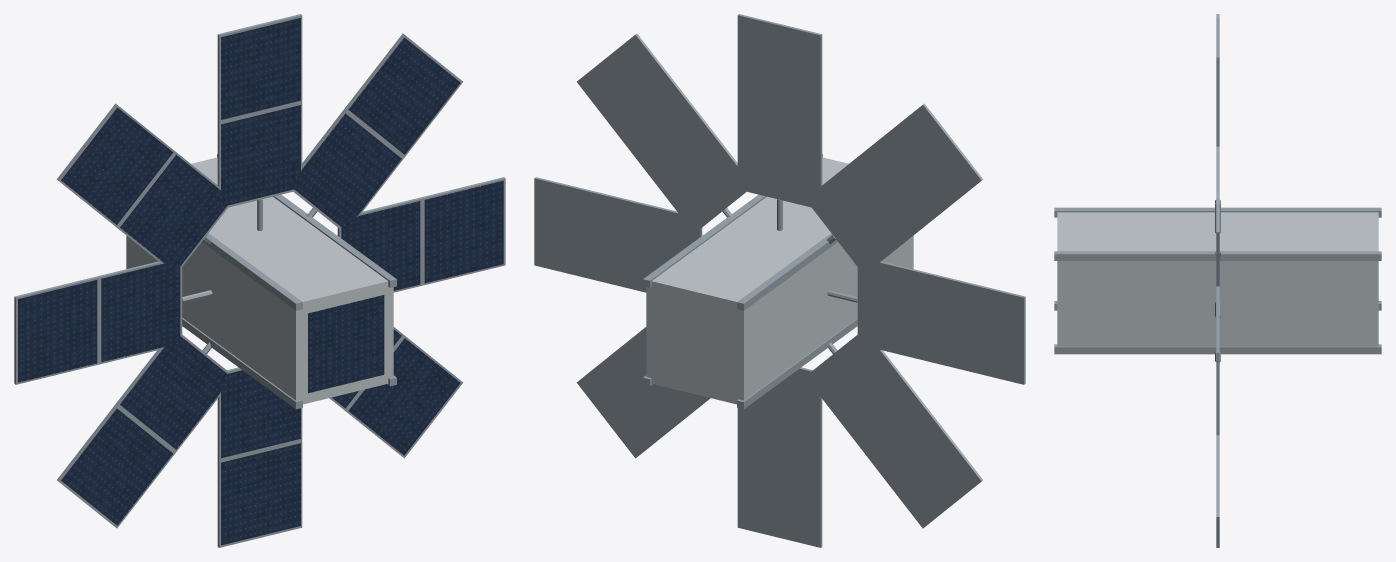
The model's file is ref-cubesat-3u-40970.glb.
3 renders of one model, left to right at view 1: azimuth 30°, elevation 25°; view 2: azimuth 150°, elevation 25°; view 3: azimuth 270°, elevation 25°, orthographic. The views are drawn at different scales.
Parts seen in each view (by area): view 1: Photovoltaic laminates (×15), Spacecraft body, Array frame (×15), Body-mounted cells, Dispenser rail (×3); view 2: Array frame (×15), Spacecraft body, Dispenser rail (×3); view 3: Spacecraft body, Dispenser rail (×3), Array frame (×4).
Part boxes in pixels (<box>): Photovoltaic laminates (×15): <box>18,18,503,545</box>; Spacecraft body: <box>126,157,393,404</box>; Array frame (×15): <box>14,14,505,547</box>; Body-mounted cells: <box>308,295,384,393</box>; Dispenser rail (×3): <box>182,154,396,409</box>; Array frame (×15): <box>534,14,1025,547</box>; Spacecraft body: <box>646,157,913,404</box>; Dispenser rail (×3): <box>643,154,857,409</box>; Spacecraft body: <box>1057,212,1378,346</box>; Dispenser rail (×3): <box>1054,207,1381,354</box>; Array frame (×4): <box>1216,19,1219,547</box>.
Size of the model in its own units: 0.5 by 0.5 by 0.306.
Materials: 3 (1 with a texture image).
